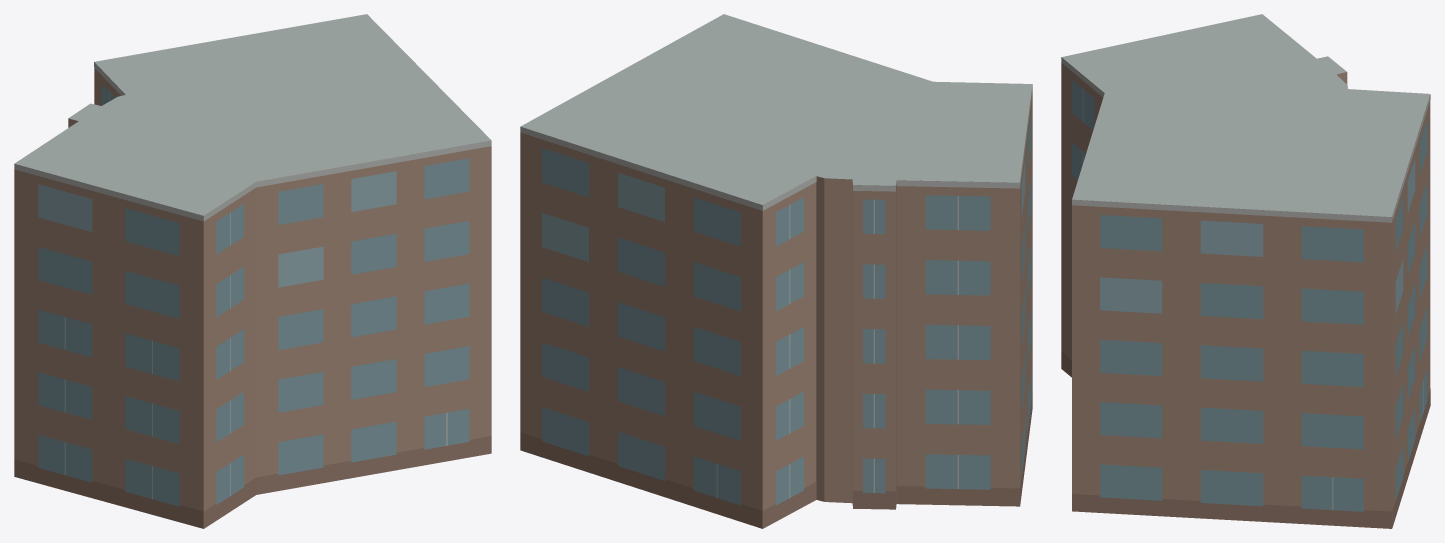
The model's file is survey-upis-33000470.glb.
3 views of the same model, side by side, from view 1: azimuth 30°, elevation 25°; view 2: azimuth 150°, elevation 25°; view 3: azimuth 270°, elevation 25° (orthographic). The views are drawn at different scales.
Visible parts, largest first — view 1: survey-upis-33000470.tmp; view 2: survey-upis-33000470.tmp; view 3: survey-upis-33000470.tmp.
Part boxes in pixels (<box>): survey-upis-33000470.tmp: <box>14,14,491,528</box>; survey-upis-33000470.tmp: <box>520,14,1032,528</box>; survey-upis-33000470.tmp: <box>1061,14,1430,528</box>.
Size of the model in its own units: 18.94 by 13.55 by 14.55.
